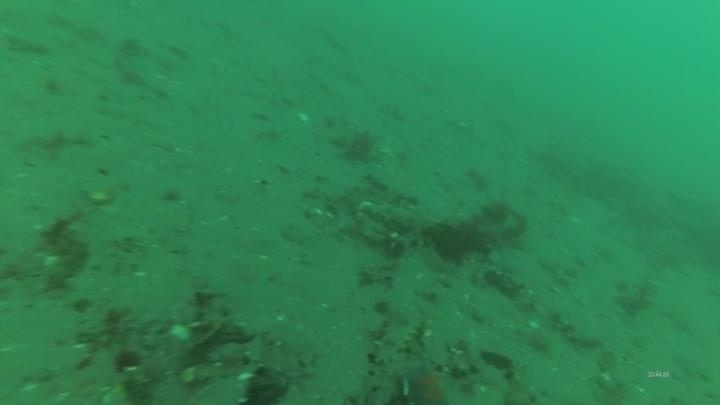echinus: (428, 217, 491, 264)
holothurian: (368, 307, 424, 367)
starfish: (399, 360, 465, 405)
